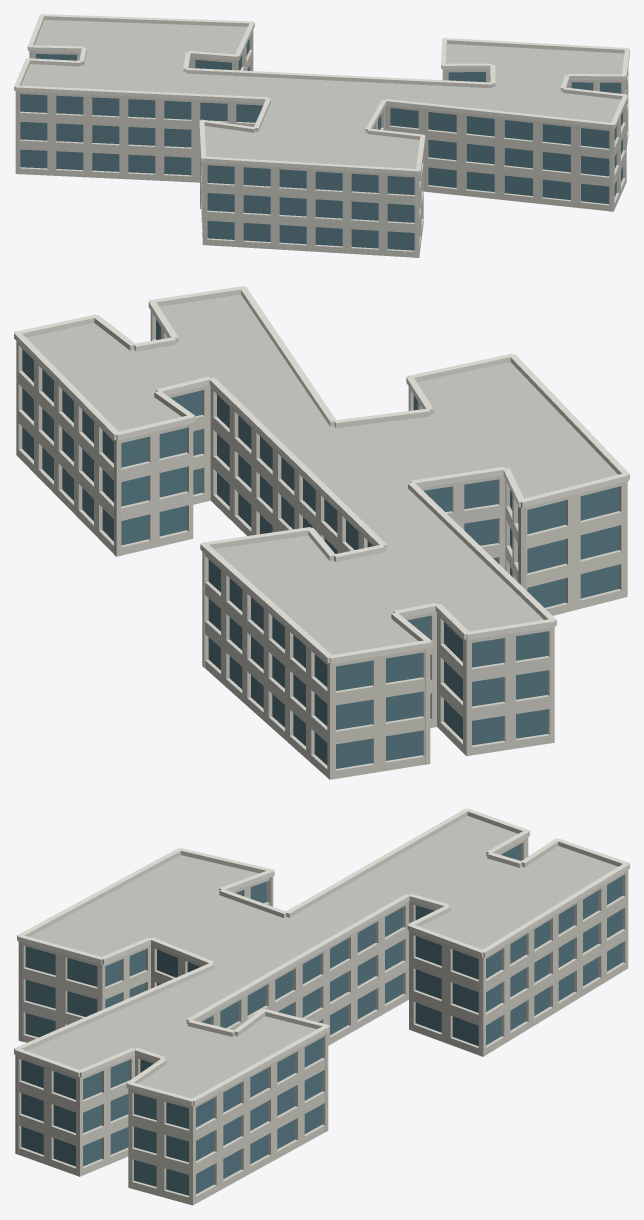
Rendered from sb_1556523919.far.glb.
3 renders of one model, top to bottom at view 1: azimuth 30°, elevation 25°; view 2: azimuth 150°, elevation 25°; view 3: azimuth 270°, elevation 25°, orthographic. The views are drawn at different scales.
Visible parts, largest first — view 1: roof, wall, glass, trim; view 2: roof, wall, glass, trim; view 3: roof, wall, glass, trim.
Part boxes in pixels (x1,y1,x2,y2): roof: (21,20,624,168); wall: (15,30,628,257); glass: (20,38,622,250); trim: (14,14,629,175); roof: (26,294,617,654); wall: (16,310,627,779); glass: (22,319,619,768); trim: (14,286,629,663); roof: (27,816,617,1098); wall: (15,837,628,1205); glass: (21,844,622,1195); trim: (14,808,629,1106).
Size of the model in its own units: 58.48 by 9.74 by 51.94.
